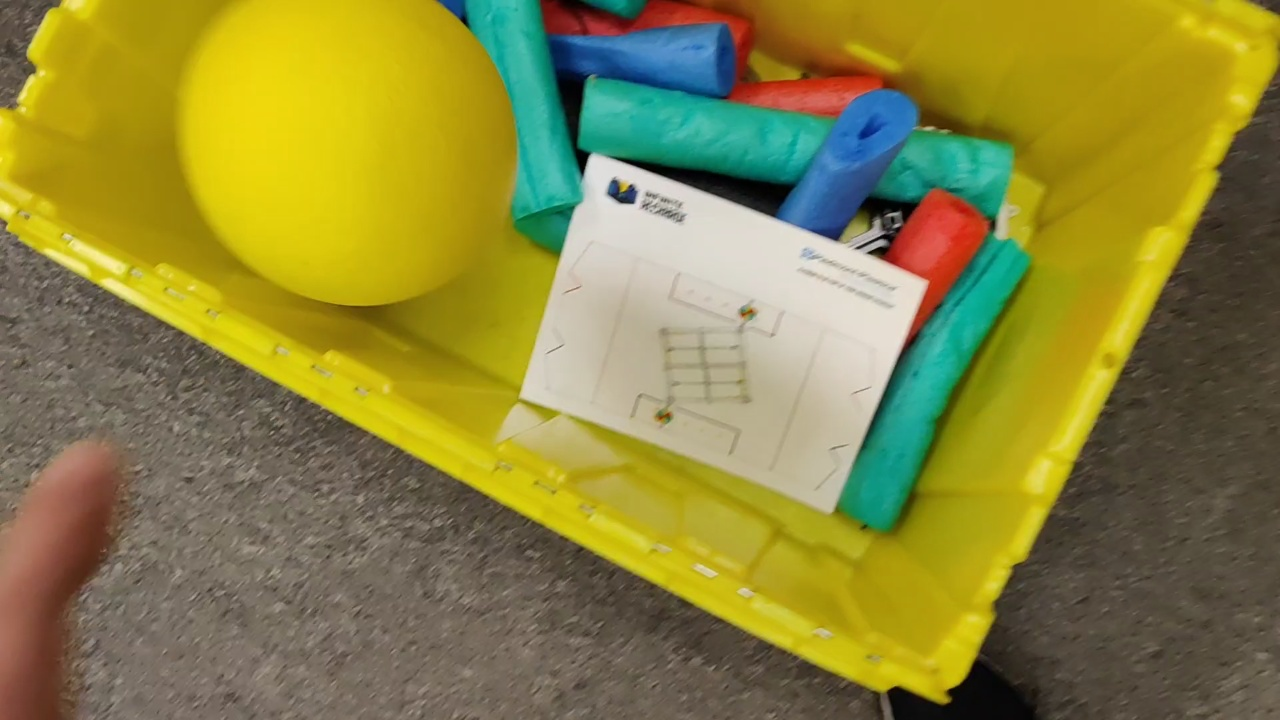Ball: (169, 3, 525, 307)
